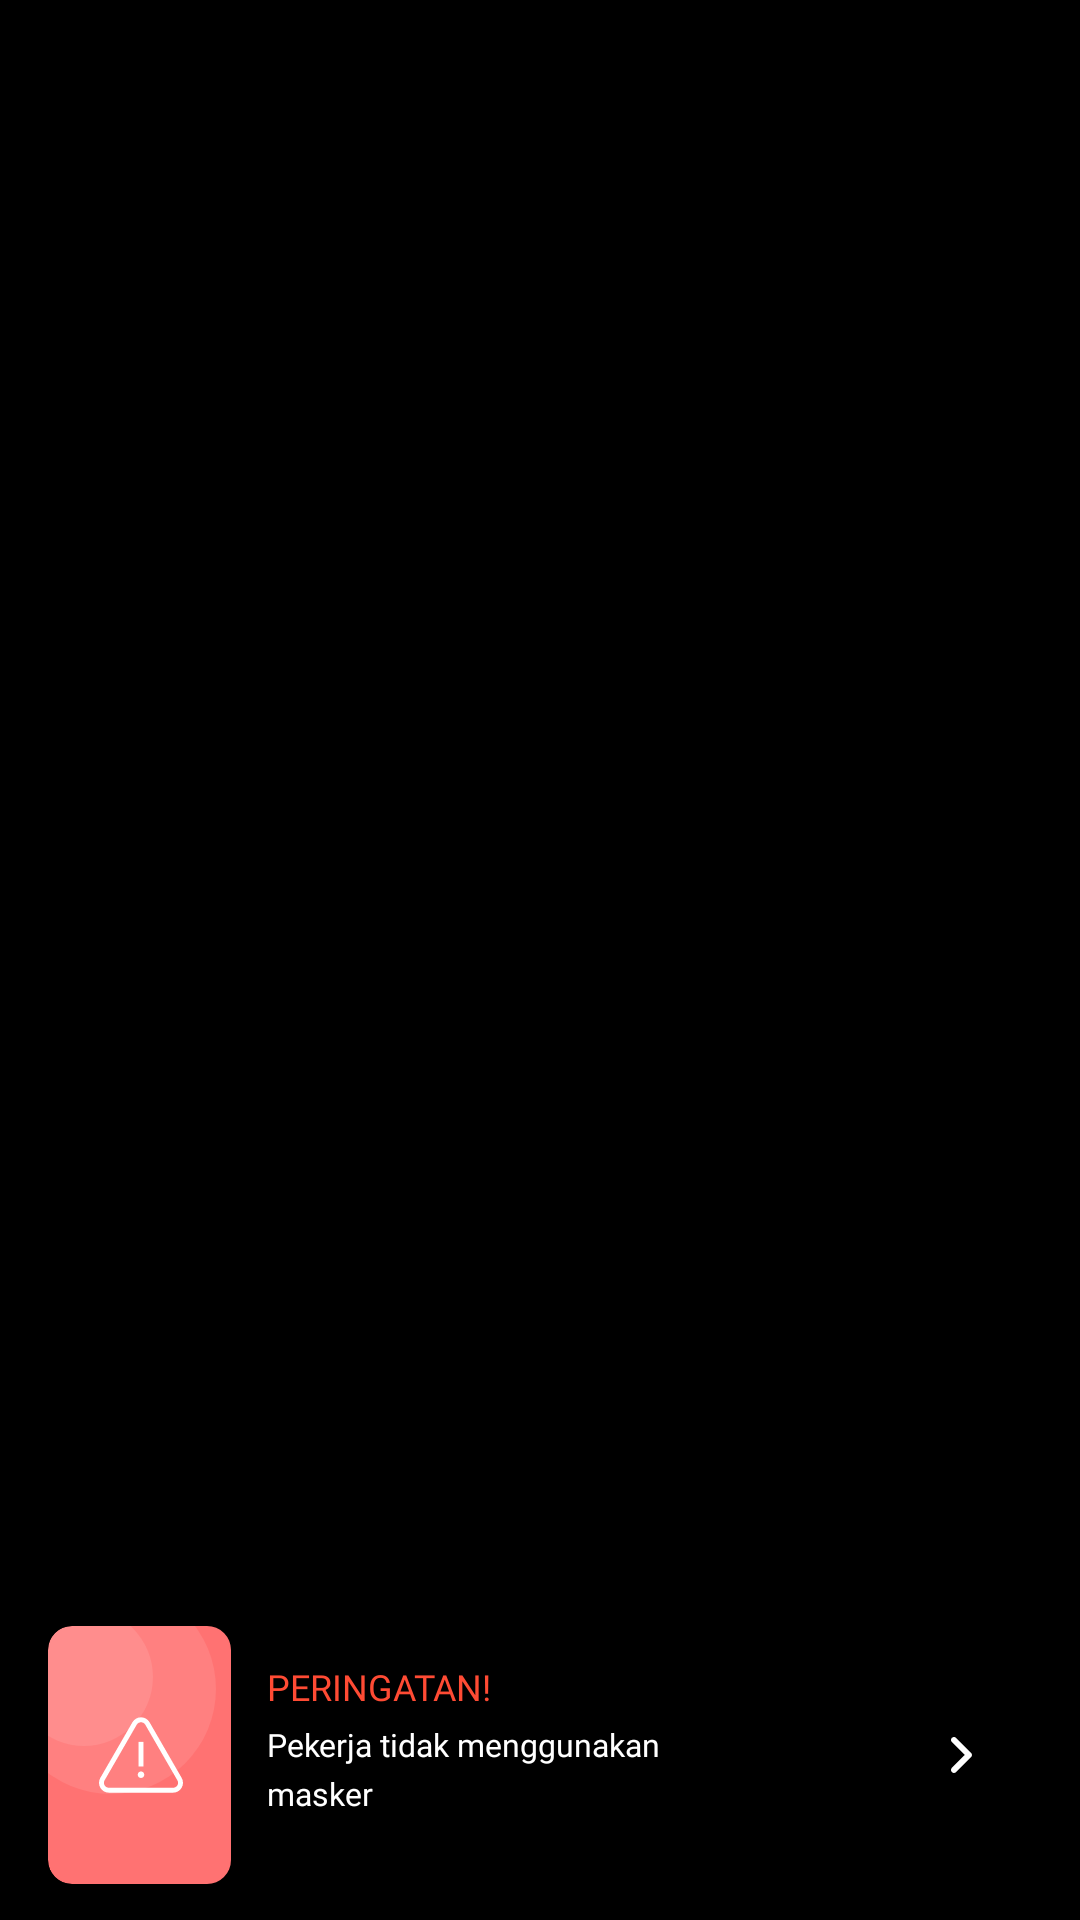

Where to tap for icons on this 1080px x 1920px app screen, as [x,y]:
card danger: [139,1755]
next: [961,1755]
